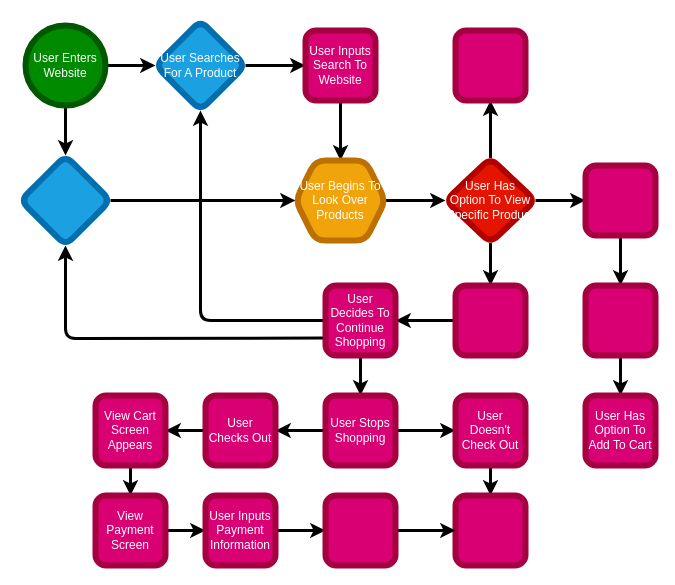
The diagram is 675 pixels wide and 585 high, and some of its shapes have lost their labels. The shapes that lost their labels are listed below. From the top down, each one's centre as x and y in pixels, then its label:
At [490,65]: "Choose To View, Product Webpage Opens".
At [65,200]: "User Explores Products On Home Page".
At [620,200]: "If User Adds To Cart".
At [490,320]: "Doesn't Choose To View".
At [620,320]: "User Receives Cart Confirmation".
At [360,530]: "User Gets Confirmation Screen and Email".
At [490,530]: "User Leaves Website".
